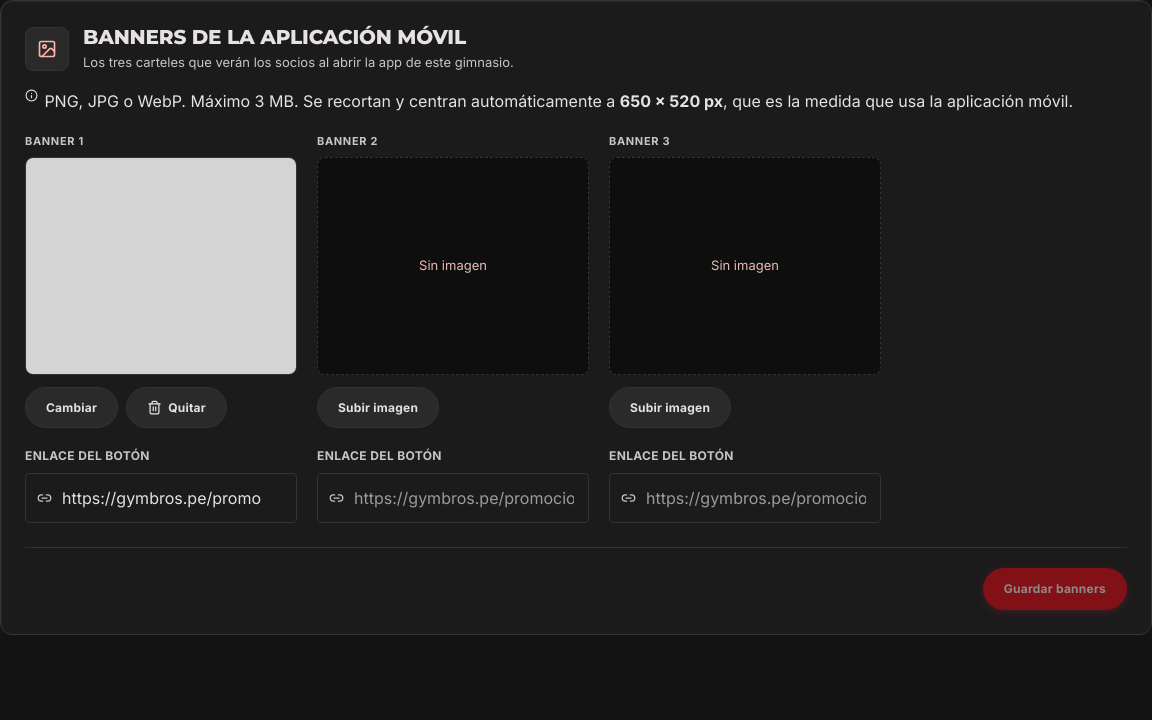
EmpresaBanners › deja vaciar un hueco quitando su imagen
Click the button "Quitar" at (177, 407), box x1=126 y1=387 x2=227 y2=428
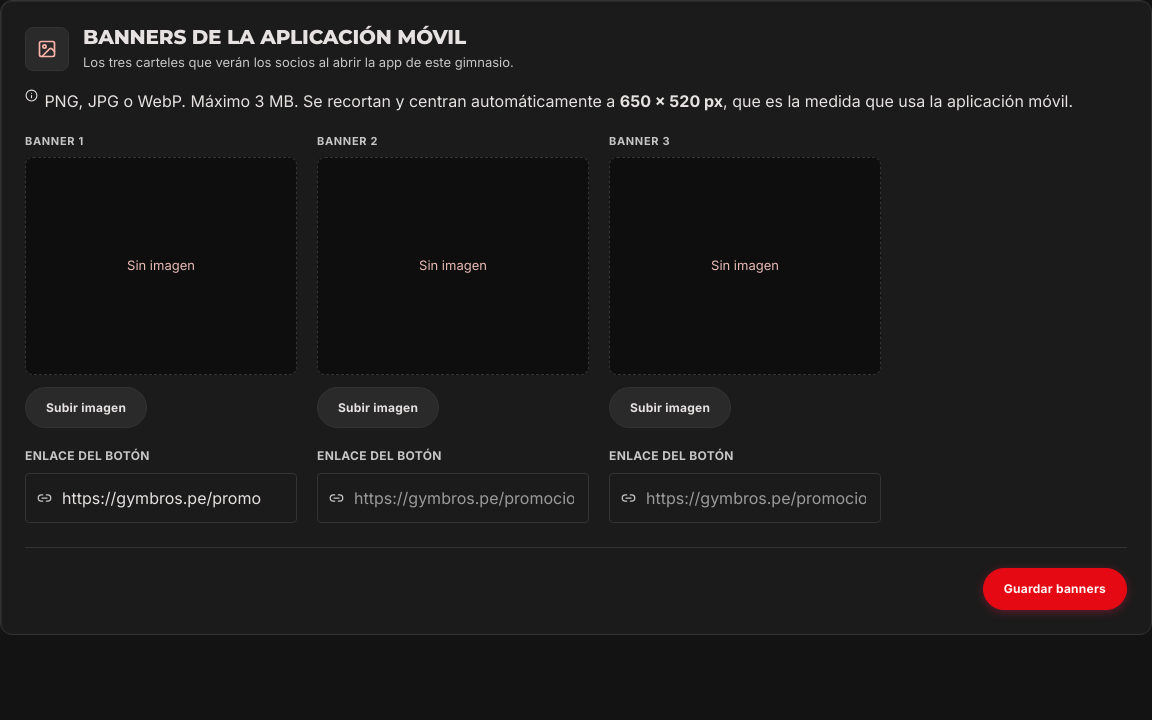
Expected: the number of elements with class "banner__lienzo--vacio" is 3, x1=25 y1=157 x2=297 y2=375; x1=317 y1=157 x2=589 y2=375; x1=609 y1=157 x2=881 y2=375
Click the button "Guardar banners" at (1055, 589), box x1=983 y1=568 x2=1127 y2=610
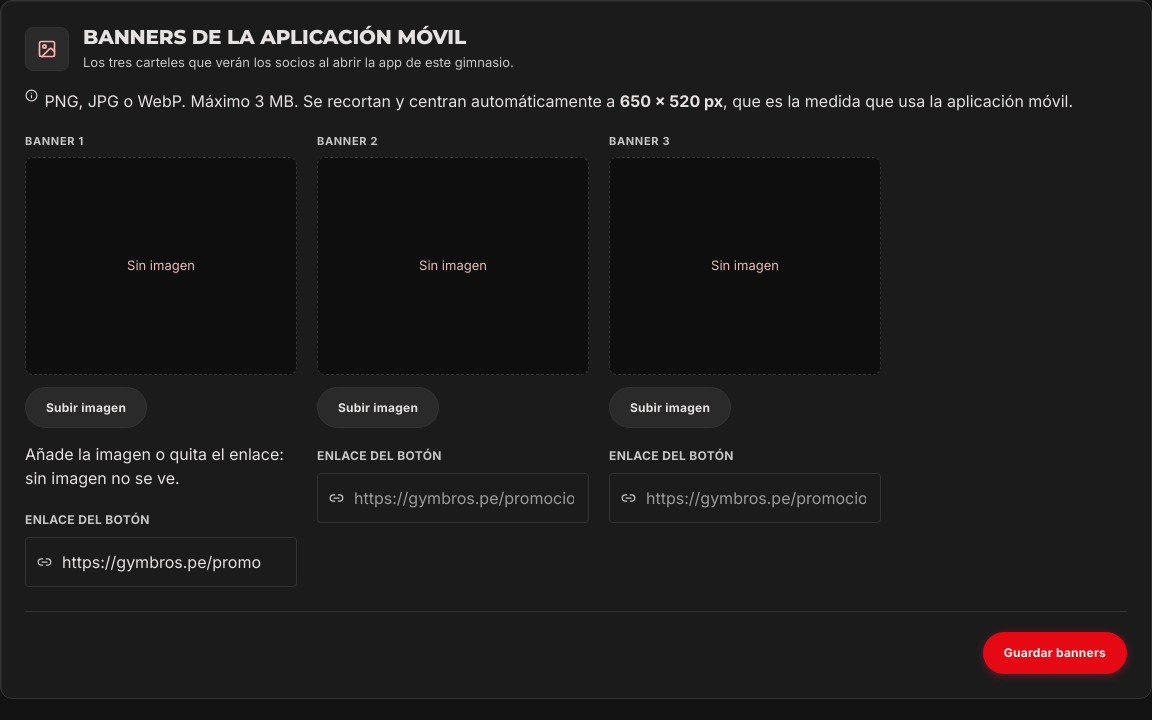
Expected: the text "sin imagen no se ve" is shown, x1=25 y1=444 x2=284 y2=488
